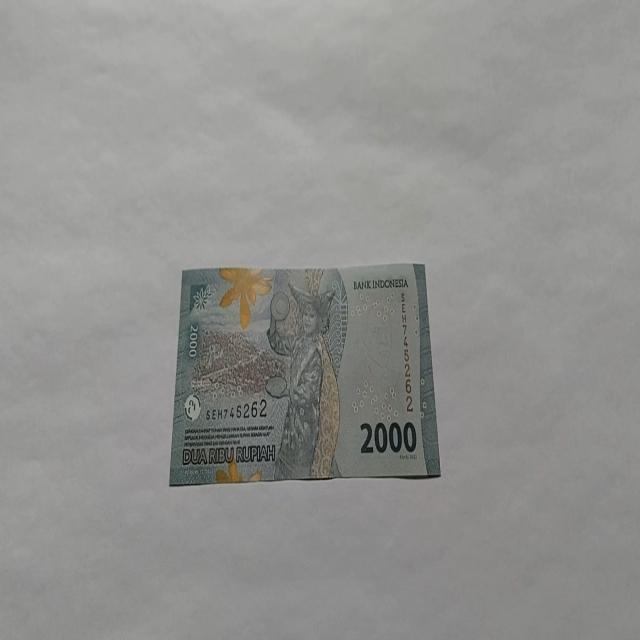dua ribu rupiah: (168, 262, 442, 486), (264, 279, 342, 480)
